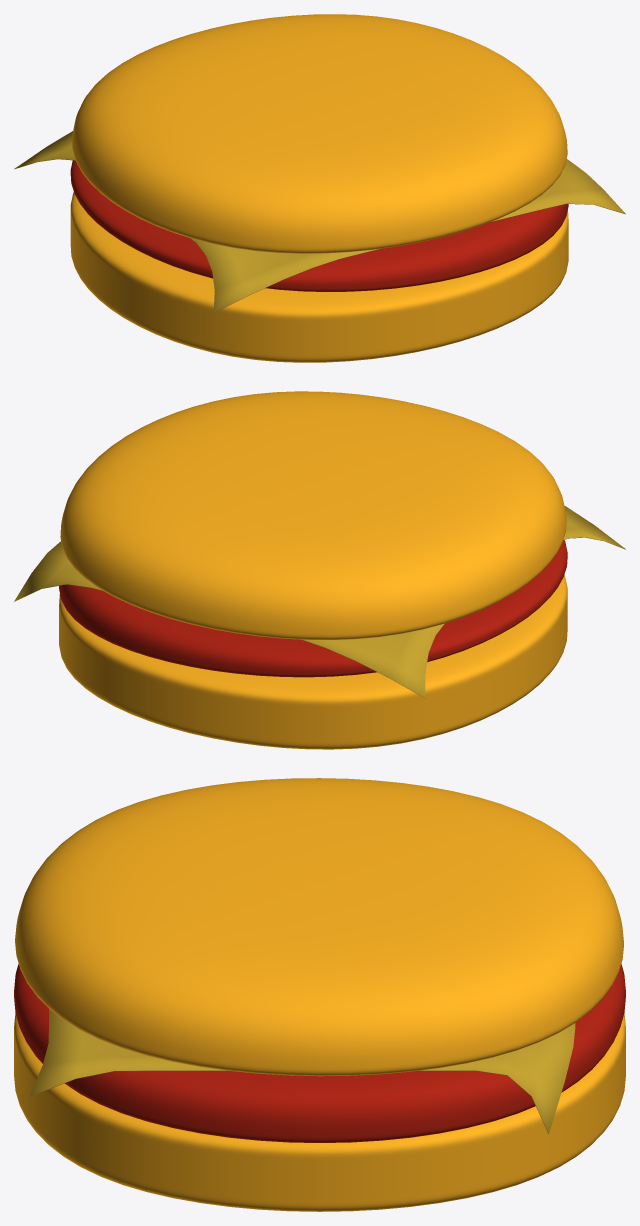
File: hamburger.glb
3 renders of one model, top to bottom at view 1: azimuth 30°, elevation 25°; view 2: azimuth 150°, elevation 25°; view 3: azimuth 270°, elevation 25°, orthographic. The views are drawn at different scales.
Parts seen in each view (by area): view 1: Cube.002, Cube, Cube.001, Plane.001; view 2: Cube.002, Cube, Cube.001, Plane.001; view 3: Cube.002, Cube, Cube.001, Plane.001.
Boxes of the visible parts, x1,y1,x2,y2 form: Cube.002: [72, 14, 567, 253]; Cube: [70, 192, 568, 362]; Cube.001: [70, 160, 568, 291]; Plane.001: [14, 131, 625, 312]; Cube.002: [60, 391, 566, 639]; Cube: [59, 575, 567, 749]; Cube.001: [59, 540, 567, 677]; Plane.001: [14, 505, 625, 698]; Cube.002: [15, 778, 623, 1076]; Cube: [14, 1013, 625, 1211]; Cube.001: [14, 964, 625, 1142]; Plane.001: [29, 1009, 575, 1134].
Size of the model in its own units: 9.07 by 3.66 by 9.07.
